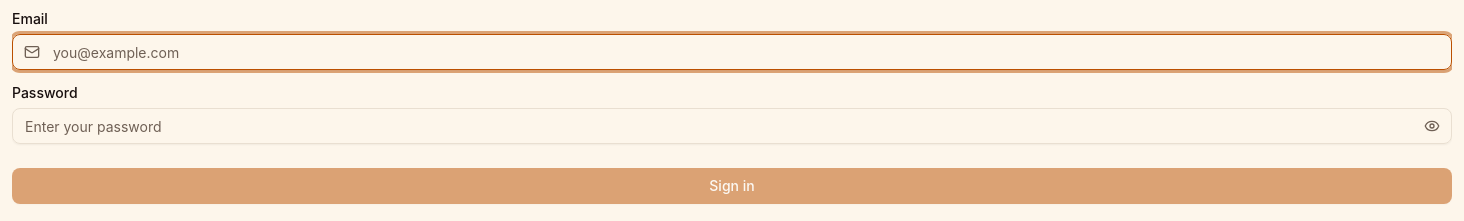
Test: Electron sign-in enables submission only after both credential fields are filled and can reveal the password
Check: the button "Sign in" is disabled, box [12,168,1452,204]
Type "reader@example.com" into the field labelled "Email" at coordinates (732, 52), box [12,34,1452,70]
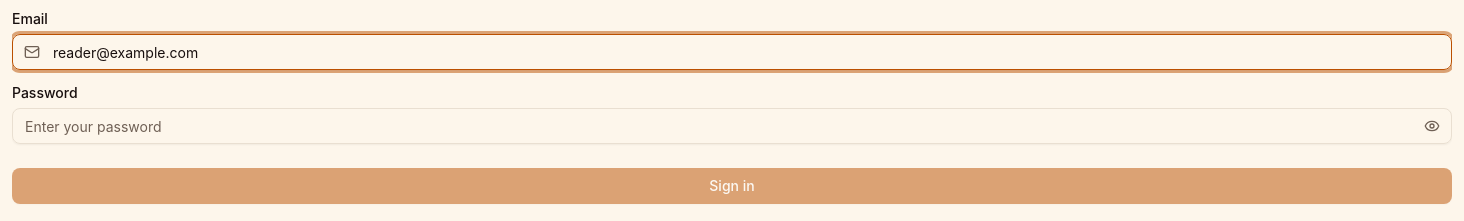
Type "Example-passphrase" into the password field labelled "Password" at coordinates (732, 126), box [12,108,1452,144]
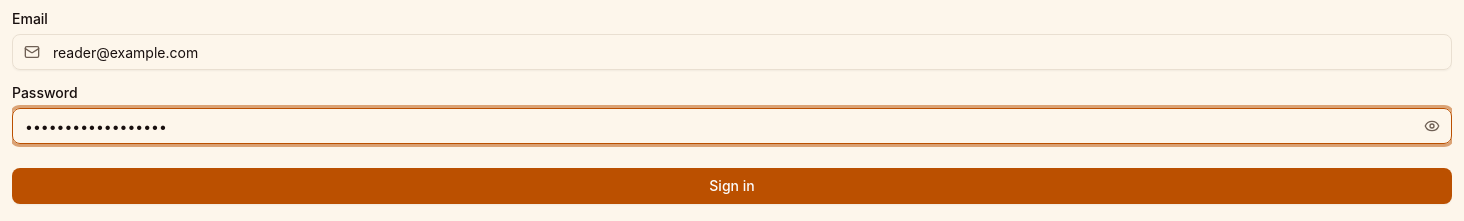
Click the button named "Show password" at coordinates (1432, 126), box [1424,118,1440,134]
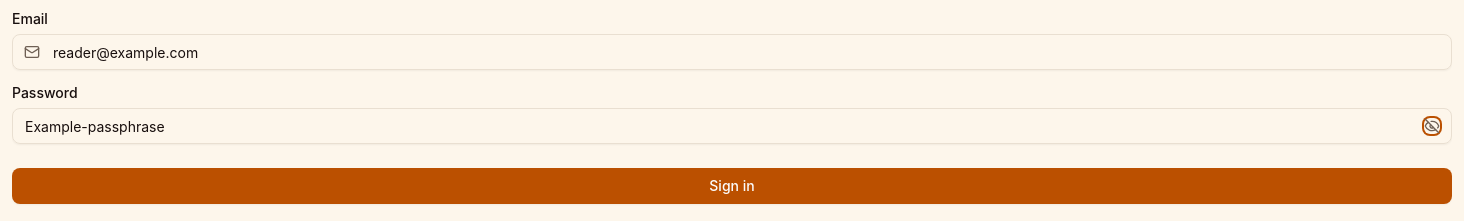
Check: the button "Sign in" is enabled, box [12,168,1452,204]
Check: the field labelled "Password" shows its text, box [12,108,1452,144]
